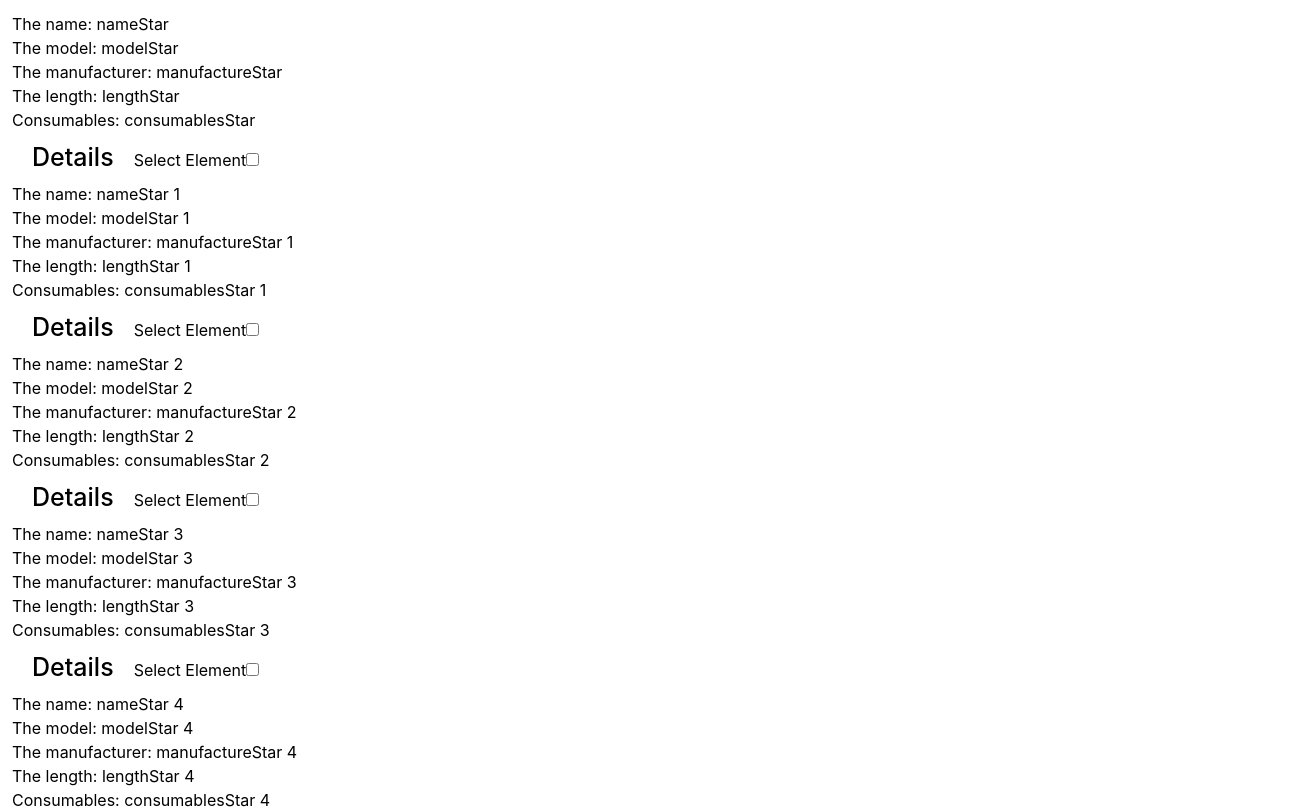
Test: Flyout › should render Flyout if user click on card
The image size is (1292, 812).
Expected: the 1st list item with test id "card" is shown, [12,14,282,182]
Click the 1st checkbox labelled "Select Element". click: (253, 160)
box: [246,153,259,166]
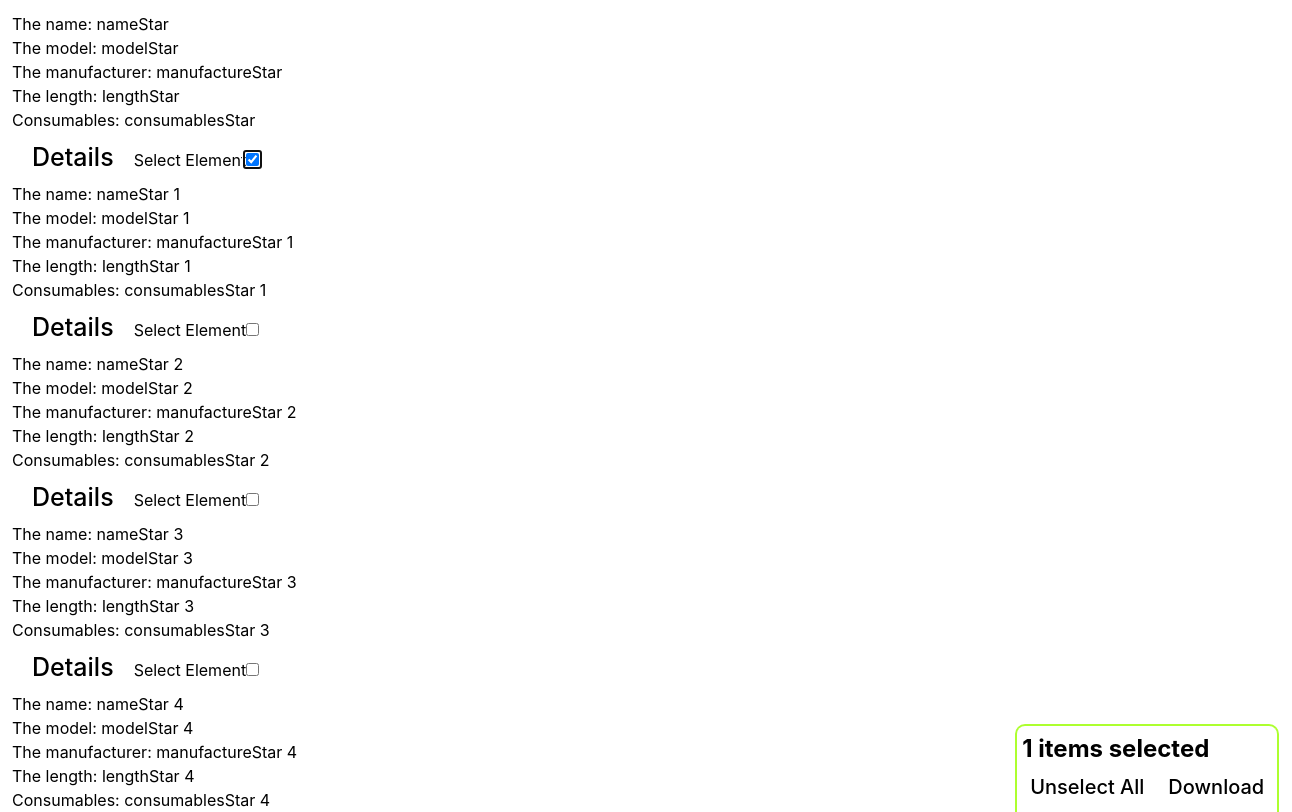
Now the element with test id "flyout" is shown, box [1015,724,1279,811]
